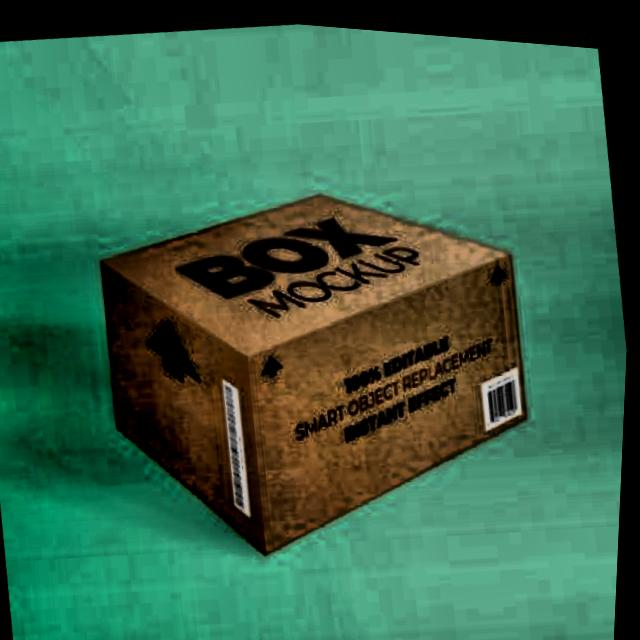Cardbox: (58, 122, 610, 624)
